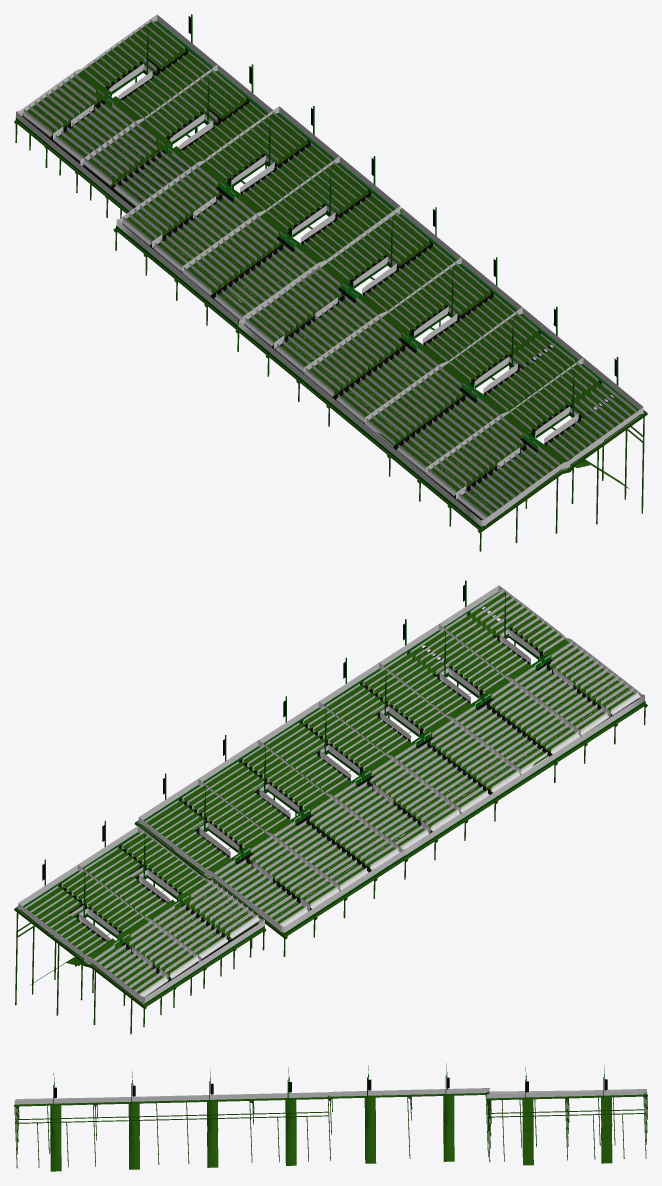
Rendered from T2_GrandStand04.fbx.
The picture shows the model from 3 angles, top to bottom: view 1: azimuth 30°, elevation 25°; view 2: azimuth 150°, elevation 25°; view 3: azimuth 270°, elevation 25°; orthographic projection. The views are drawn at different scales.
Parts seen in each view (by area): view 1: T2_GrandStand04_Audience_Far, T2_GrandStand04_Base_Audience_alpha, T2_GrandStand04_Fence1_alpha, T2_GrandStand04_Base, T2_GrandStand04_Chairs1_ShadowOnly, T2_GrandStand04_Base2; view 2: T2_GrandStand04_Audience_Far, T2_GrandStand04_Base_Audience_alpha, T2_GrandStand04_Fence1_alpha, T2_GrandStand04_Base, T2_GrandStand04_Chairs1_ShadowOnly, T2_GrandStand04_Base2; view 3: T2_GrandStand04_Base2, T2_GrandStand04_Fence1_alpha, T2_GrandStand04_Base, T2_GrandStand04_Base_Audience_alpha.
Boxes of the visible parts, x1,y1,x2,y2 form: T2_GrandStand04_Audience_Far: [23, 22, 635, 516]; T2_GrandStand04_Base_Audience_alpha: [22, 19, 636, 519]; T2_GrandStand04_Fence1_alpha: [16, 14, 643, 526]; T2_GrandStand04_Base: [15, 14, 644, 528]; T2_GrandStand04_Chairs1_ShadowOnly: [50, 57, 614, 514]; T2_GrandStand04_Base2: [14, 77, 647, 551]; T2_GrandStand04_Audience_Far: [26, 592, 634, 993]; T2_GrandStand04_Base_Audience_alpha: [24, 589, 640, 996]; T2_GrandStand04_Fence1_alpha: [18, 585, 644, 1002]; T2_GrandStand04_Base: [17, 580, 645, 1004]; T2_GrandStand04_Chairs1_ShadowOnly: [61, 606, 632, 981]; T2_GrandStand04_Base2: [14, 642, 647, 1034]; T2_GrandStand04_Base2: [14, 1092, 647, 1171]; T2_GrandStand04_Fence1_alpha: [14, 1088, 646, 1104]; T2_GrandStand04_Base: [20, 1063, 647, 1105]; T2_GrandStand04_Base_Audience_alpha: [15, 1088, 645, 1100].
Size of the model in its own units: 15.76 by 12.26 by 72.75.
